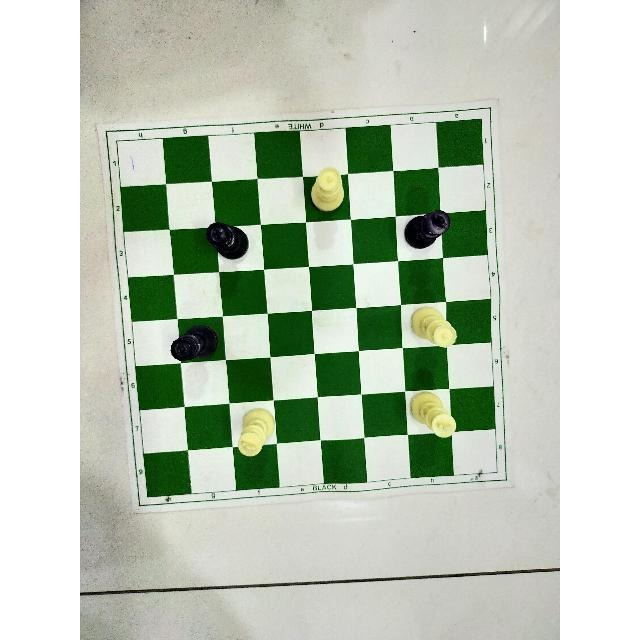black-king: (401, 203, 453, 251)
black-queen: (168, 324, 224, 360), (206, 218, 248, 263)
white-king: (404, 388, 460, 442), (237, 406, 277, 458)
white-queen: (410, 304, 460, 348), (306, 165, 349, 214)
